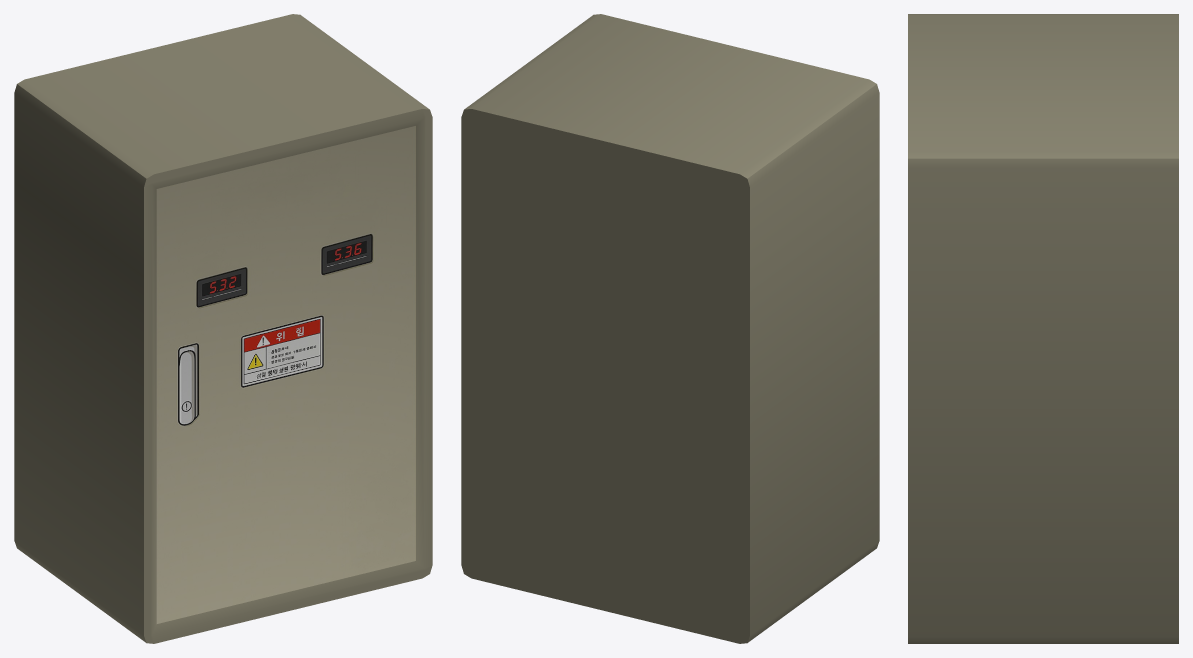
3 views of the same model, side by side, from view 1: azimuth 30°, elevation 25°; view 2: azimuth 150°, elevation 25°; view 3: azimuth 270°, elevation 25° (orthographic). The views are drawn at different scales.
Visible parts, largest first — view 1: PLC본체(전원환경감시)031; view 2: PLC본체(전원환경감시)031; view 3: PLC본체(전원환경감시)031.
Boxes of the visible parts, left/top/right/bottom form: PLC본체(전원환경감시)031: left=14, top=14, right=432, bottom=643; PLC본체(전원환경감시)031: left=461, top=14, right=879, bottom=643; PLC본체(전원환경감시)031: left=908, top=14, right=1178, bottom=643.
Size of the model in its own units: 0.45 by 0.7 by 0.35.
Materials: 2 (1 with a texture image).
